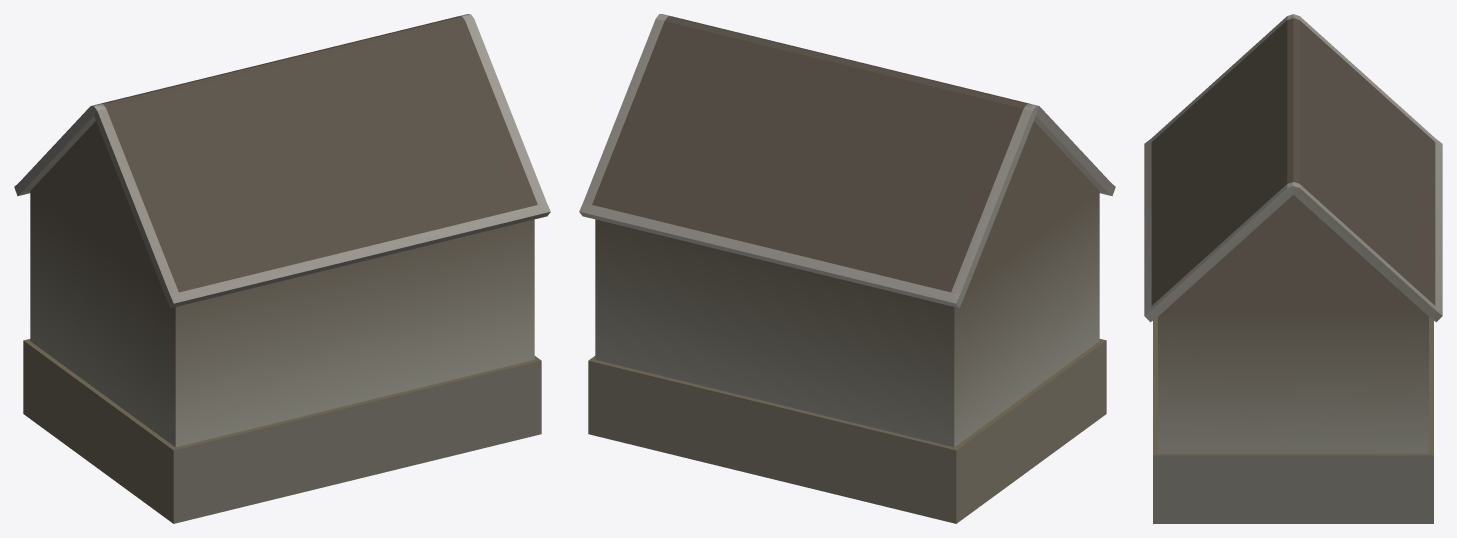
Rendered from Large_house1.fbx.
The picture shows the model from 3 angles, left to right: view 1: azimuth 30°, elevation 25°; view 2: azimuth 150°, elevation 25°; view 3: azimuth 270°, elevation 25°; orthographic projection. The views are drawn at different scales.
Parts seen in each view (by area): view 1: Base-1Floor_A; view 2: Base-1Floor_A; view 3: Base-1Floor_A.
Part boxes in pixels (x1,y1,x2,y2): Base-1Floor_A: (14,14,550,523); Base-1Floor_A: (579,14,1115,523); Base-1Floor_A: (1144,14,1442,523).
Bounding box in the file's own units: 1050 × 968 × 771.
